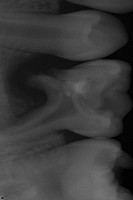Dental Caries: (4, 52, 57, 120)
